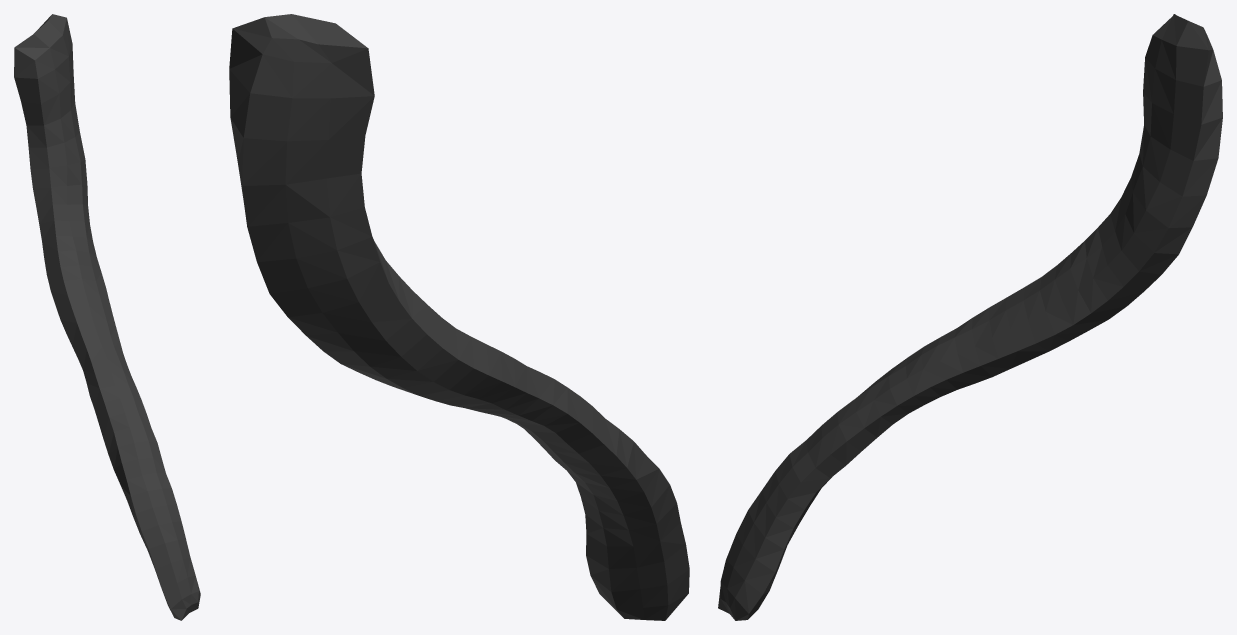
File: Cranial_cruciate_ligament.glb
3 renders of one model, left to right at view 1: azimuth 30°, elevation 25°; view 2: azimuth 150°, elevation 25°; view 3: azimuth 270°, elevation 25°, orthographic. The views are drawn at different scales.
Parts seen in each view (by area): view 1: Cranial_cruciate_ligament; view 2: Cranial_cruciate_ligament; view 3: Cranial_cruciate_ligament.
Boxes of the visible parts, bbox=[...] form: Cranial_cruciate_ligament: bbox=[14, 14, 200, 620]; Cranial_cruciate_ligament: bbox=[229, 14, 689, 620]; Cranial_cruciate_ligament: bbox=[718, 14, 1222, 620].
Size of the model in its own units: 0.0497 by 0.2309 by 0.1713.
Materials: 1 (1 with a texture image).
